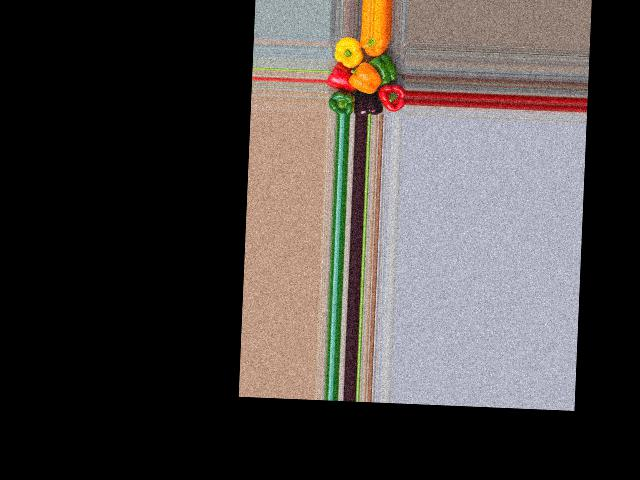bell_pepper: (360, 37, 397, 64)
